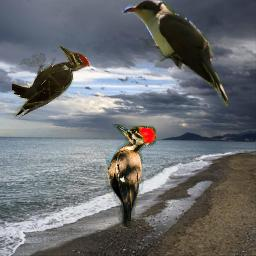Cuckoo: (121, 0, 228, 107)
Woodpecker: (12, 46, 90, 118), (103, 124, 156, 228)
